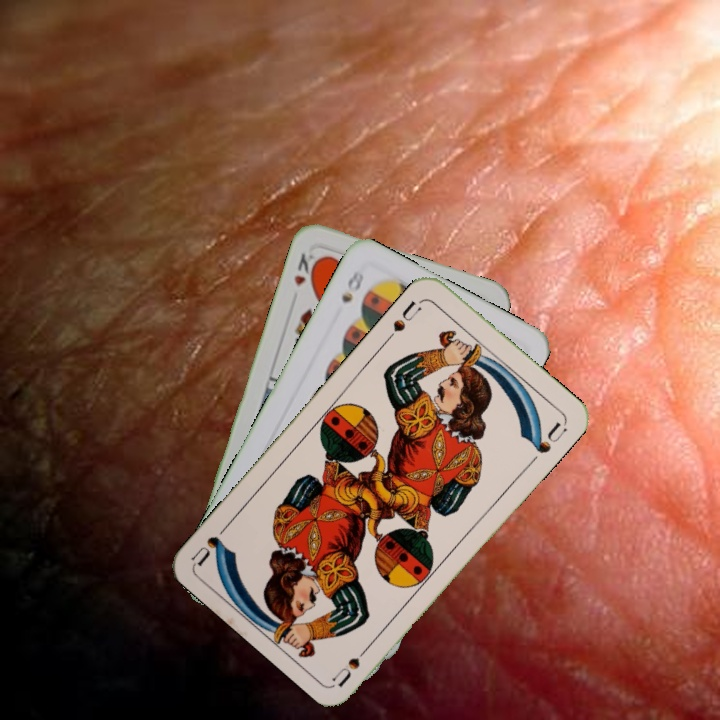HK: (290, 249, 323, 289)
S8: (337, 266, 367, 306)
SU: (329, 637, 376, 688), (382, 296, 424, 344)
